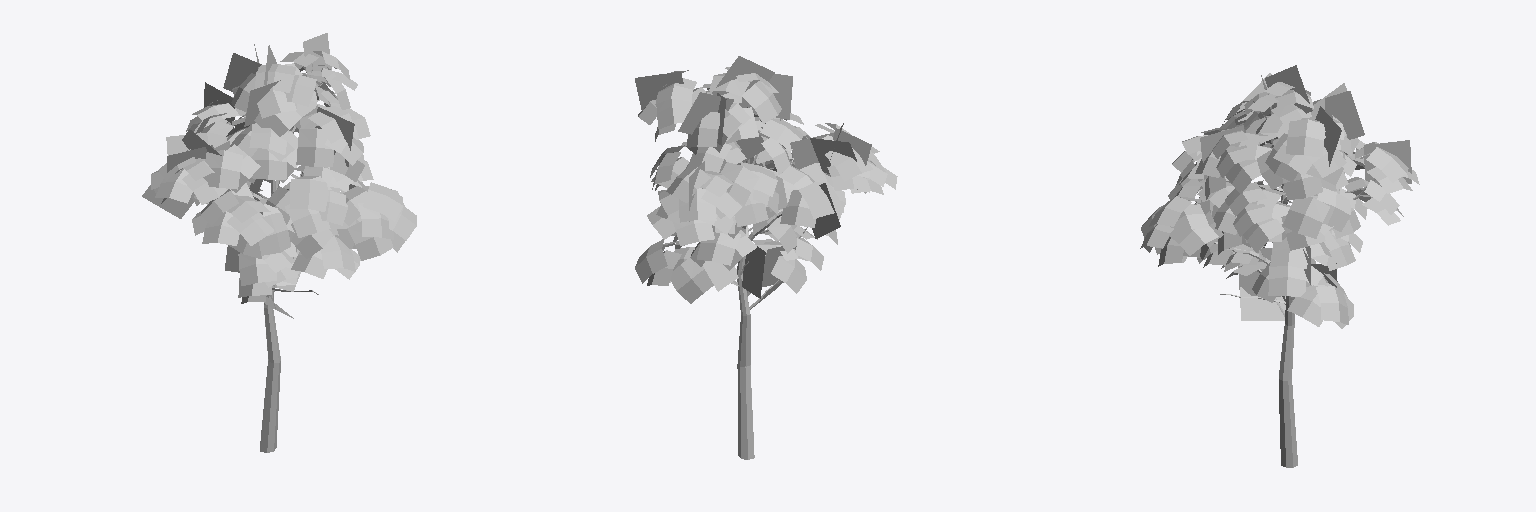
File: tree.obj
The picture shows the model from 3 angles: view 1: azimuth 30°, elevation 25°; view 2: azimuth 150°, elevation 25°; view 3: azimuth 270°, elevation 25°; orthographic projection.
Parts seen in each view (by area): view 1: polySurface3053, polySurface2985; view 2: polySurface3053, polySurface2985; view 3: polySurface3053, polySurface2985.
Part boxes in pixels (x1,y1,x2,y2): polySurface3053: (142, 33, 416, 318); polySurface2985: (179, 54, 335, 452); polySurface3053: (635, 56, 897, 309); polySurface2985: (656, 104, 826, 459); polySurface3053: (1140, 65, 1419, 328); polySurface2985: (1214, 101, 1395, 467).
Size of the model in its own units: 12.27 by 21.79 by 13.72.